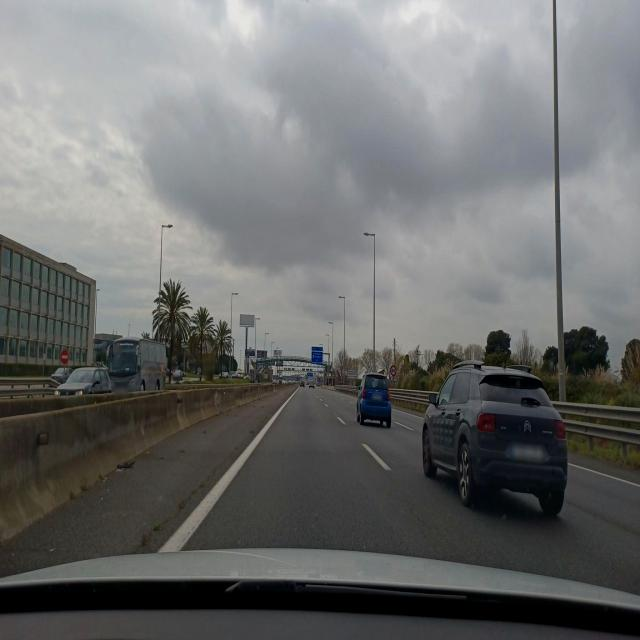car: (421, 359, 569, 517), (48, 366, 113, 402), (356, 371, 392, 427), (43, 364, 74, 392), (172, 367, 184, 381), (308, 375, 314, 389)
